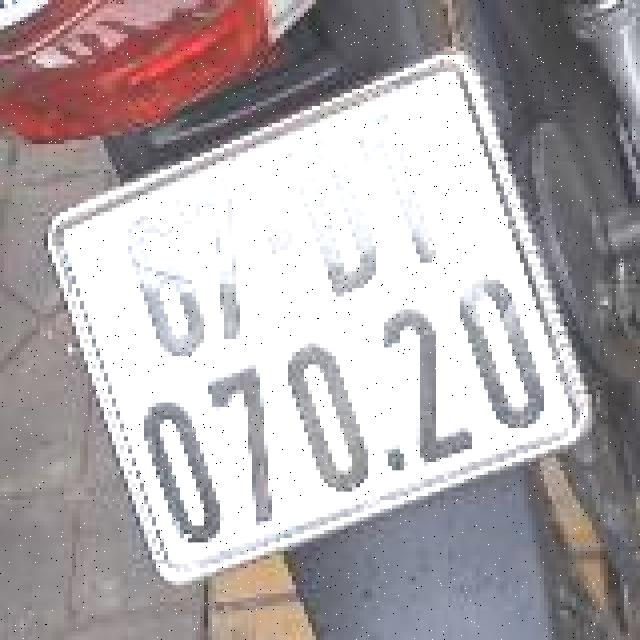0: (454, 271, 554, 445), (282, 337, 374, 502), (140, 386, 224, 560)
1: (360, 104, 456, 282)
2: (372, 295, 476, 481)
6: (106, 192, 214, 366)
7: (184, 172, 264, 354), (214, 354, 286, 536)
D: (282, 127, 382, 305)
